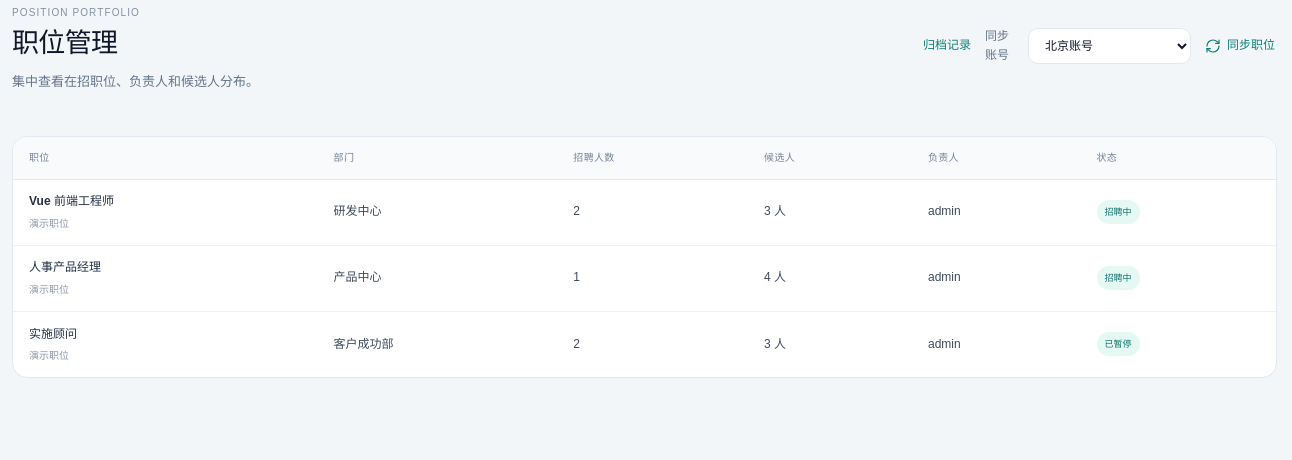
Scenario: RecruitmentJobsView › runs one-click position sync and shows persisted counts
Select "北京账号" in the dropdown with test id "sync-account" at [1109, 46], box [1028,28,1191,64]
Click the button with test id "sync-positions" at [1240, 46], box [1203,32,1277,60]
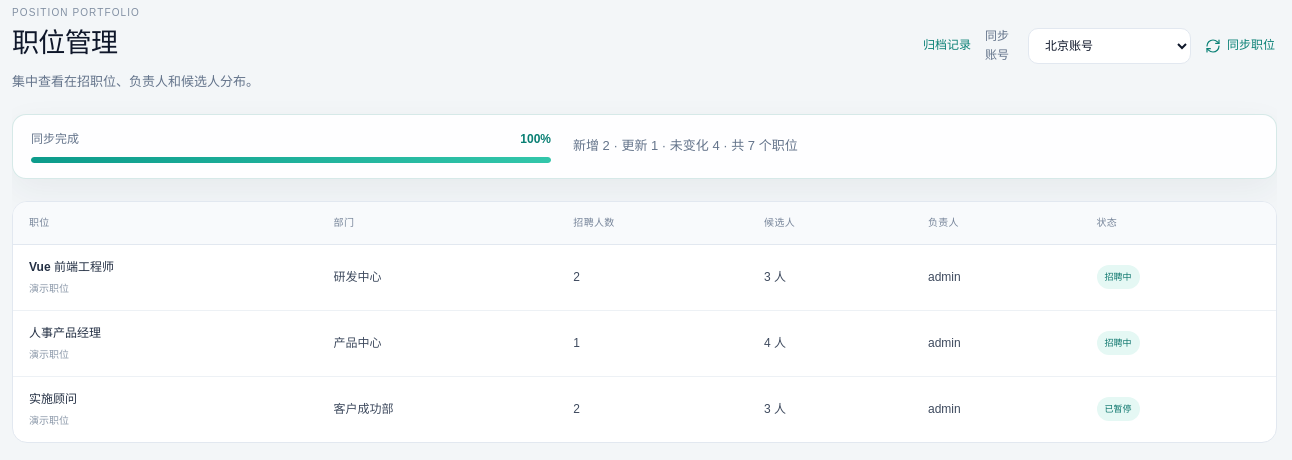
Expected: the text "新增 2 · 更新 1 · 未变化 4 · 共 7 个职位" is shown, [573,138,798,153]
